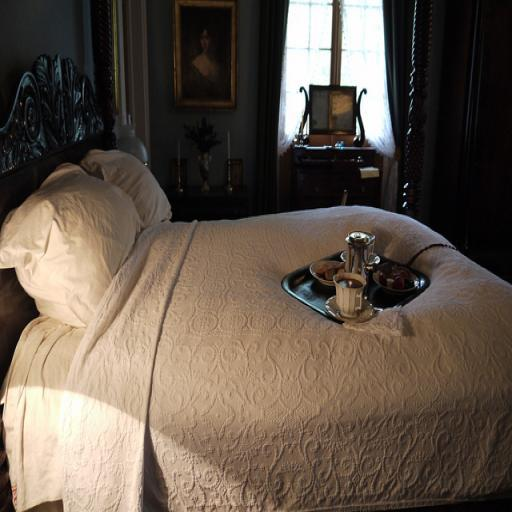bed: (10, 56, 512, 500)
